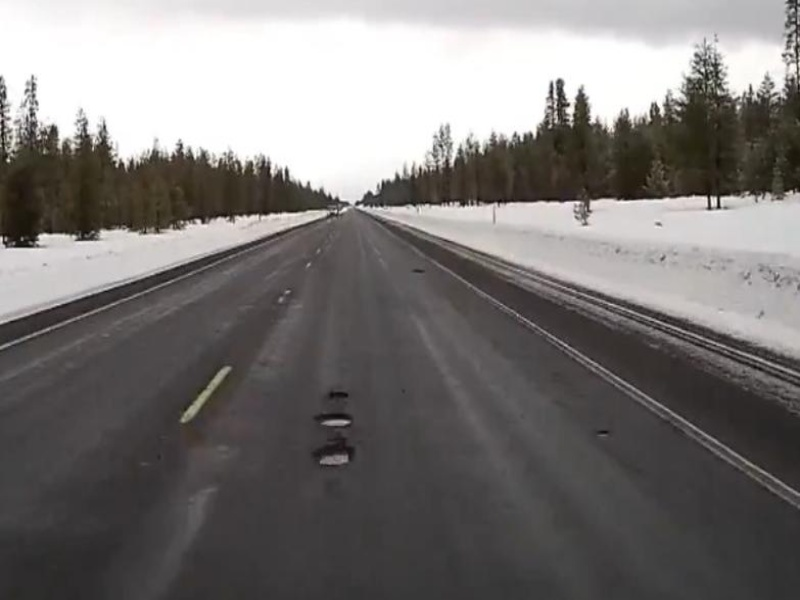pothole: (310, 440, 358, 472), (308, 410, 362, 430)
